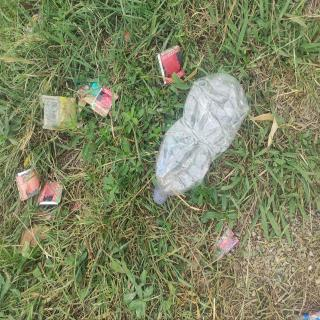Plastic-bottle: (151, 71, 252, 209)
